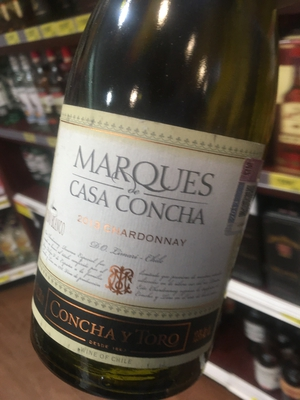marques de casa concha chardonnay: (26, 7, 275, 395)
